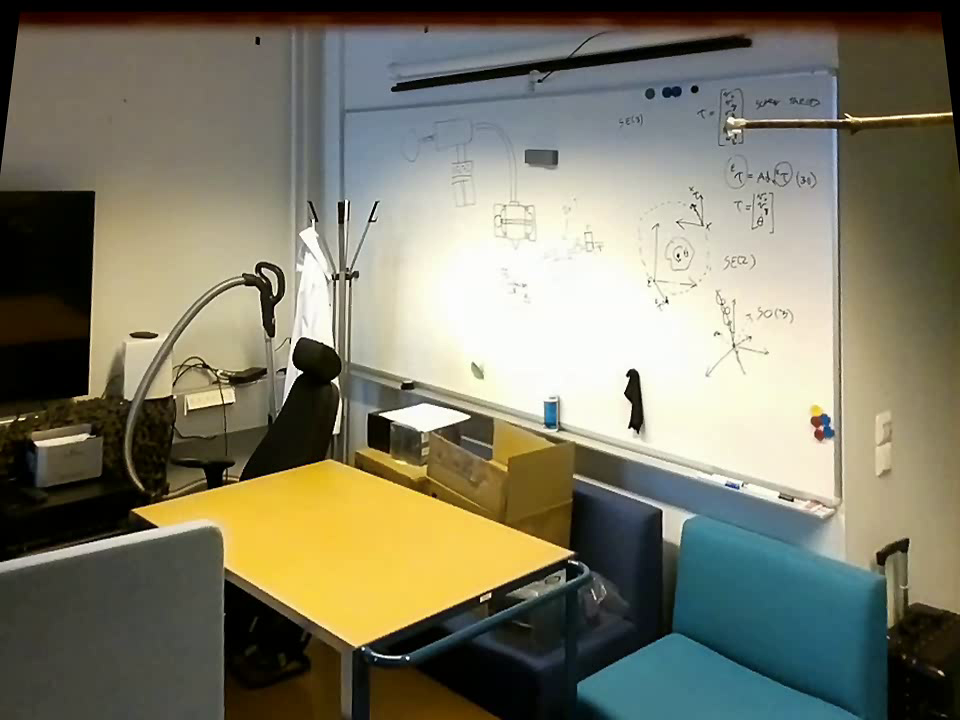aluminum_frame: (352, 358, 842, 521), (338, 61, 832, 116), (825, 64, 850, 508), (334, 106, 350, 206)
branch: (749, 100, 950, 135)
